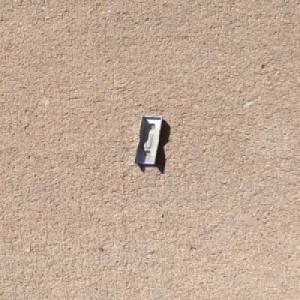ClampPart: (131, 114, 165, 165)
